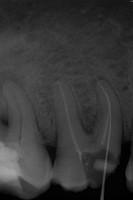Endo-Periodontal Lesion: (78, 114, 96, 134), (0, 113, 9, 127)
Furcation Involvement: (0, 69, 27, 92)
